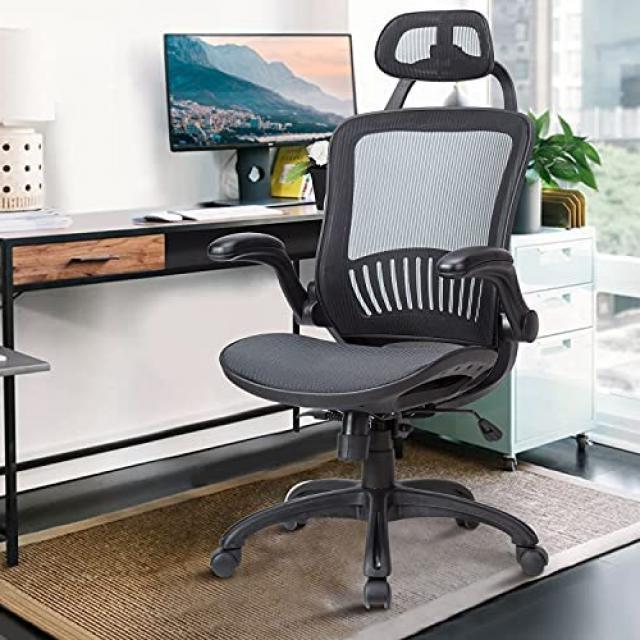chair: (174, 5, 571, 625)
